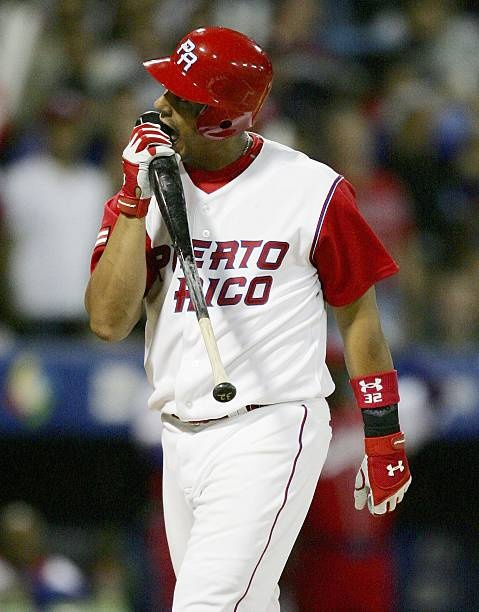bita: (129, 106, 232, 401)
